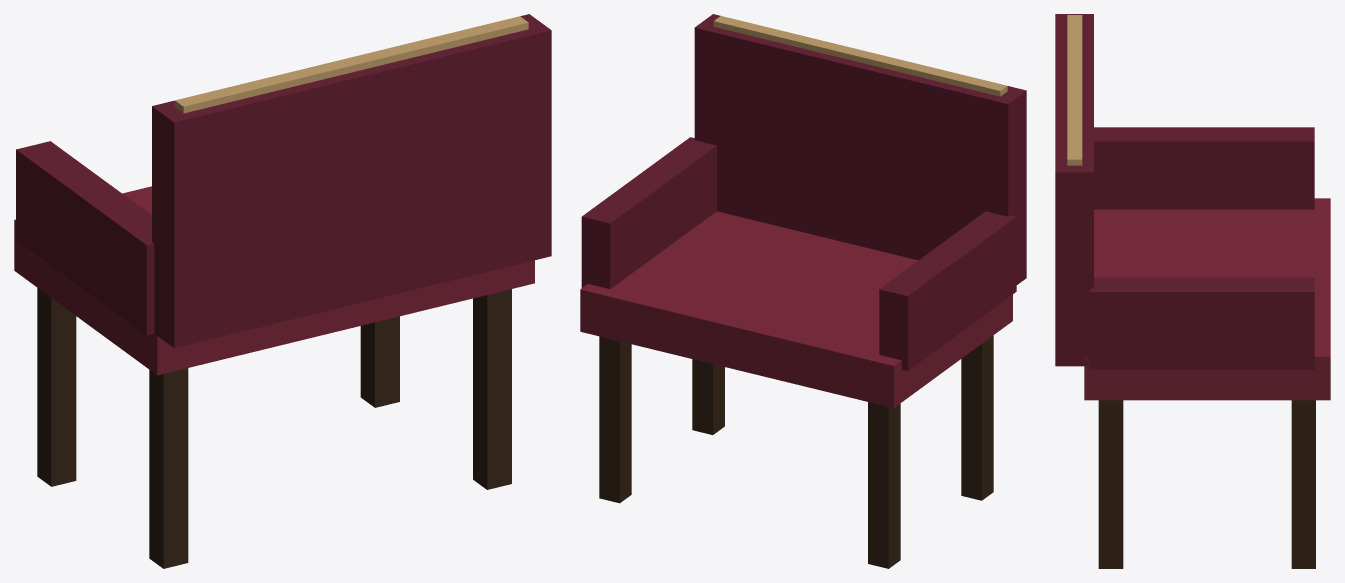
Rendered from lane_seat.glb.
3 views of the same model, side by side, from view 1: azimuth 30°, elevation 25°; view 2: azimuth 150°, elevation 25°; view 3: azimuth 270°, elevation 25° (orthographic). The views are drawn at different scales.
Parts seen in each view (by area): view 1: back_surface, arm_0, cushion, leg_0, leg_1, leg_2, back_rail, leg_3; view 2: back_surface, cushion, arm_0, arm_1, leg_2, leg_3, leg_0, back_rail, leg_1; view 3: cushion, arm_1, arm_0, back_surface, leg_1, leg_3, back_rail.
Boxes of the visible parts, box(x1,y1,x2,y2) form: back_surface: box(152, 14, 551, 348); arm_0: box(16, 141, 154, 335); cushion: box(14, 186, 534, 375); leg_0: box(149, 368, 188, 568); leg_1: box(473, 289, 511, 489); leg_2: box(37, 288, 76, 486); back_rail: box(175, 16, 528, 113); leg_3: box(360, 316, 399, 407); back_surface: box(694, 14, 1026, 284); cushion: box(580, 211, 1012, 408); arm_0: box(879, 211, 1016, 371); arm_1: box(581, 137, 716, 289); leg_2: box(868, 402, 900, 568); leg_3: box(599, 336, 631, 503); leg_0: box(961, 335, 993, 500); back_rail: box(713, 16, 1007, 96); leg_1: box(692, 359, 724, 434); cushion: box(1084, 198, 1330, 400); arm_1: box(1089, 277, 1314, 369); arm_0: box(1094, 127, 1314, 209); back_surface: box(1055, 14, 1093, 366); leg_1: box(1098, 400, 1123, 568); leg_3: box(1291, 400, 1315, 568); back_rail: box(1067, 15, 1082, 165).
Bounding box in the file's own units: 0.728 × 0.842 × 0.514.
